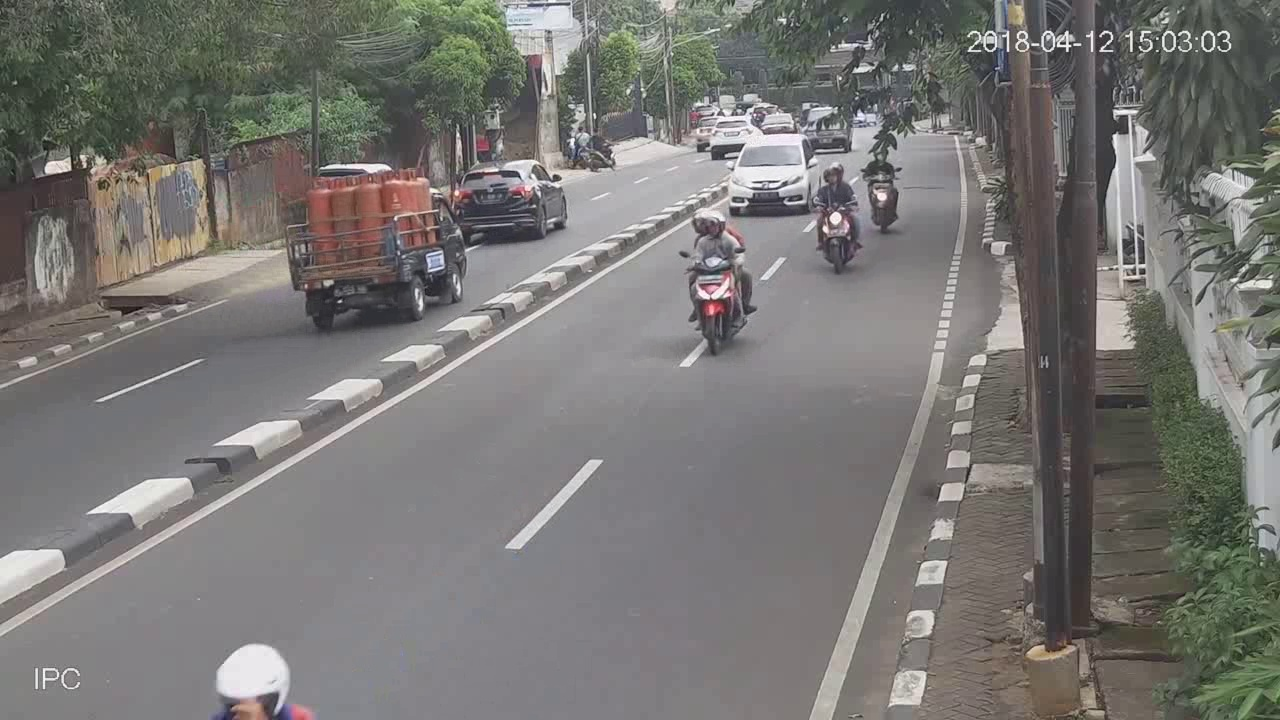car: (449, 155, 573, 239), (723, 137, 812, 215)
motorcycle: (678, 204, 761, 359), (808, 161, 866, 282), (861, 147, 910, 235)
truck: (281, 168, 469, 328)
